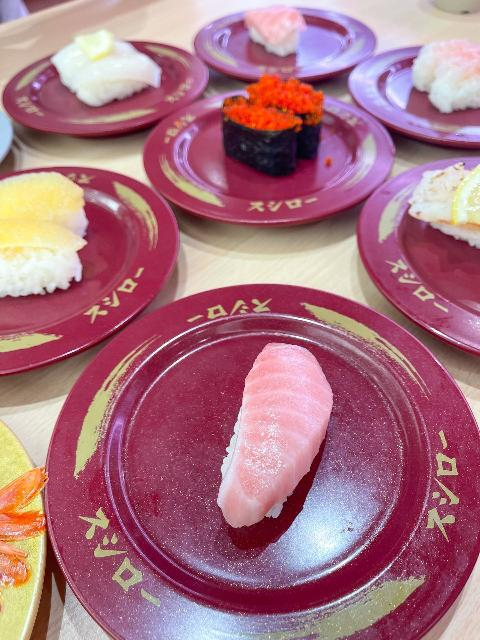jangold: (0, 383, 58, 640)
janred: (81, 309, 467, 640), (0, 154, 181, 335), (170, 79, 376, 220), (360, 177, 480, 348), (17, 28, 196, 130), (191, 0, 366, 75), (350, 48, 480, 148)
janwhite: (0, 90, 18, 171)
